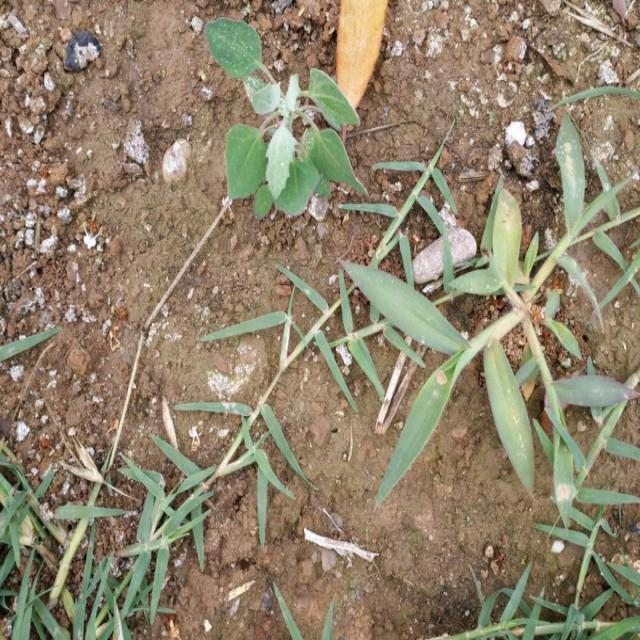ca: (204, 16, 364, 220)
